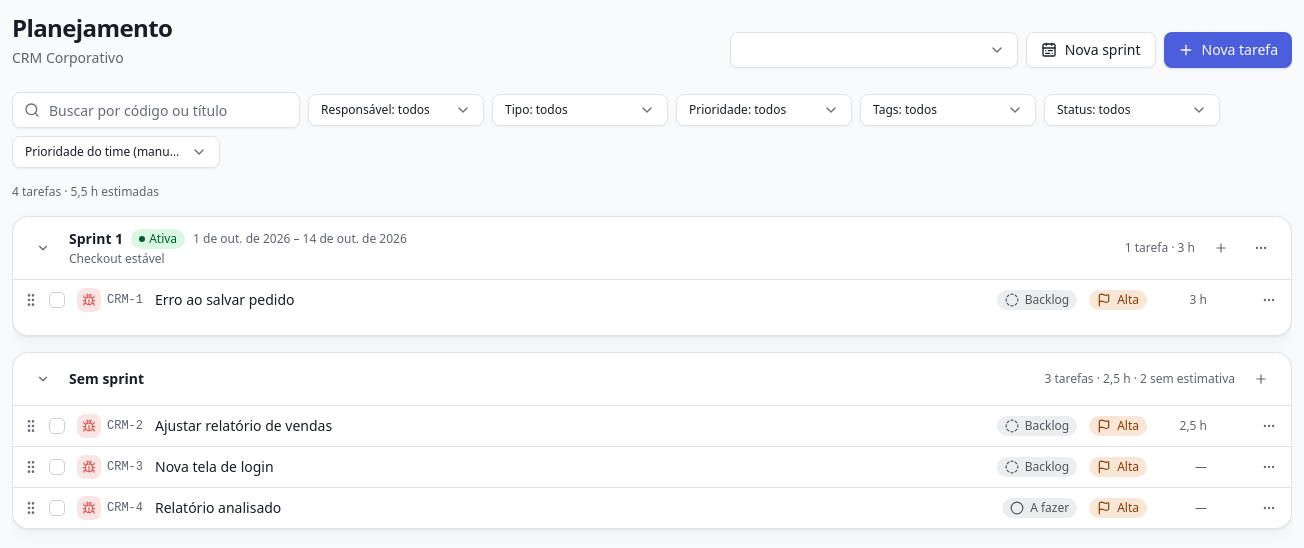
Test case: BacklogPage › ordenação diferente da manual desliga o arraste; filtros só escondem
Expected: the number of buttons named "Arrastar" is 4, [17, 286, 45, 314]; [17, 412, 45, 440]; [17, 453, 45, 481]; [17, 494, 45, 522]
Click the dropdown named "Ordenar" at (116, 152), box [12, 136, 220, 168]
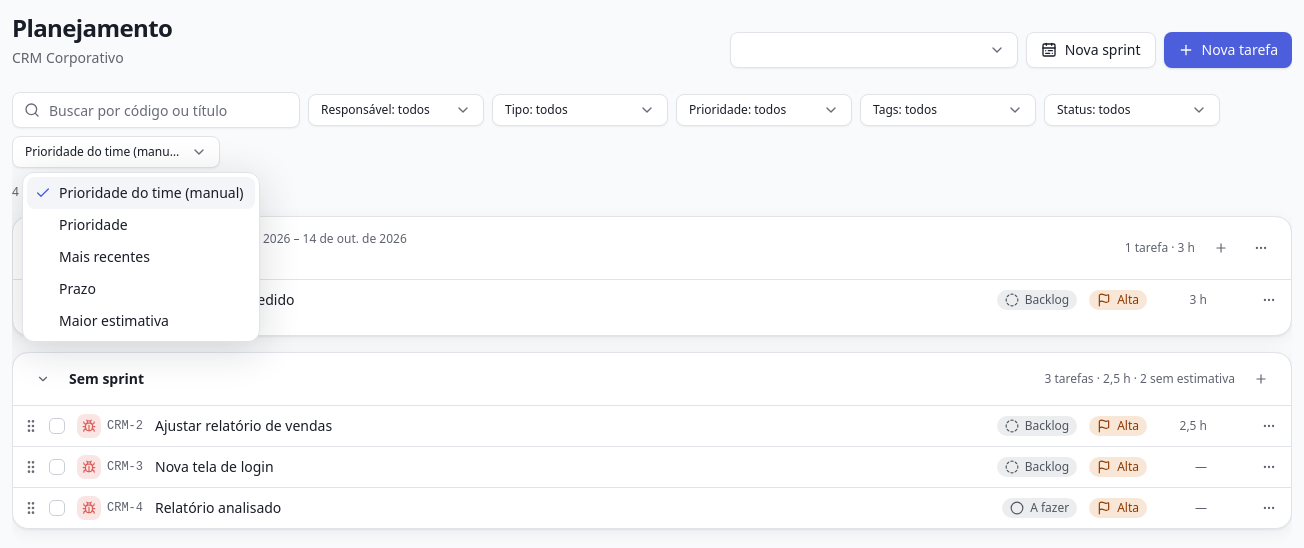
Click the option "Maior estimativa" at (114, 320), box [59, 311, 169, 330]
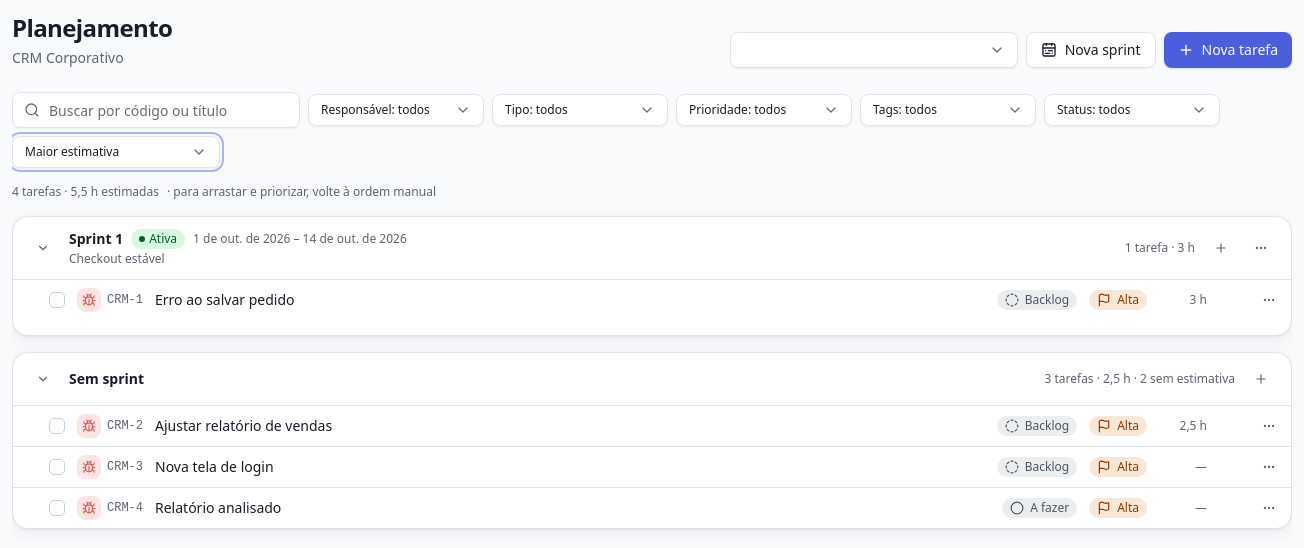
Expected: the text "· para arrastar e priorizar, volte à ordem manual" is shown, [167, 184, 436, 200]
Type "login" into the search field with placeholder "Buscar por código ou título" at (156, 110), box [12, 92, 300, 128]
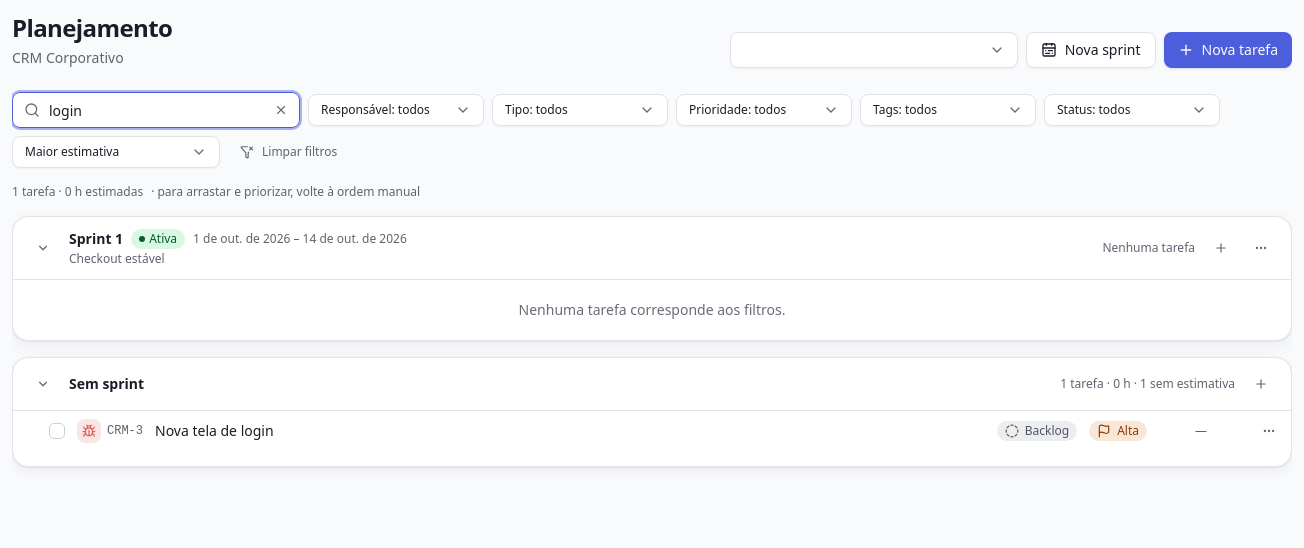
Expected: the button "Erro ao salvar pedido" is gone
Expected: the list item "Nenhuma tarefa corresponde aos filtros." is shown, [519, 300, 785, 319]
